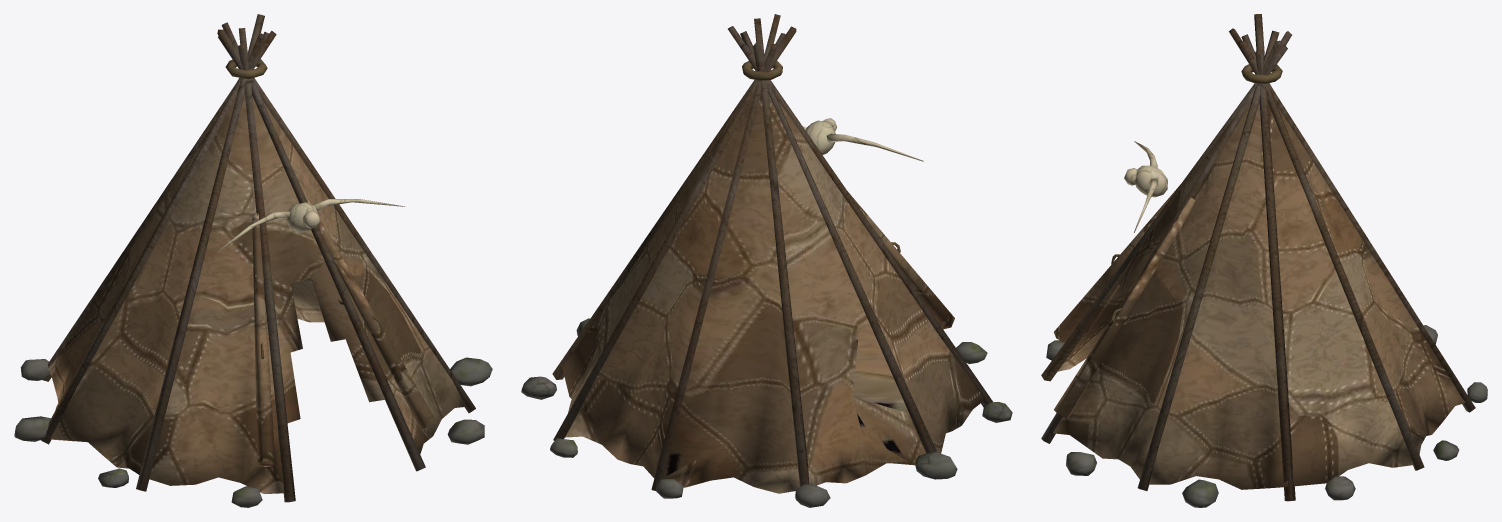
File: tent_lod1.glb
3 views of the same model, side by side, from view 1: azimuth 30°, elevation 25°; view 2: azimuth 150°, elevation 25°; view 3: azimuth 270°, elevation 25° (orthographic). The views are drawn at different scales.
Visible parts, largest first — view 1: tent_lod1; view 2: tent_lod1; view 3: tent_lod1.
Part boxes in pixels (<box>): tent_lod1: <box>14,14,492,507</box>; tent_lod1: <box>521,14,1012,507</box>; tent_lod1: <box>1041,14,1487,507</box>.
Size of the model in its own units: 3.86 by 3.38 by 3.55.
Materials: 1 (1 with a texture image).
